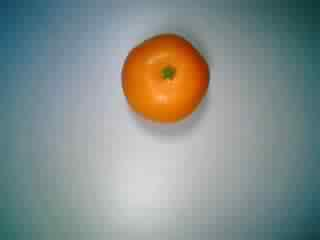orange: (116, 33, 210, 132)
